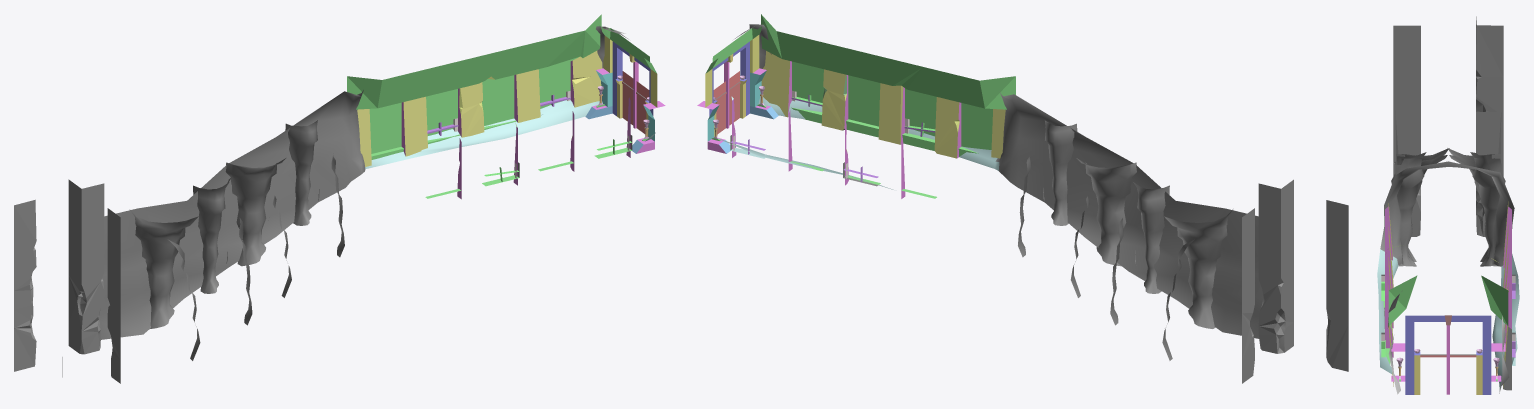
File: ssq_ent2.gltf
The picture shows the model from 3 angles, left to right: view 1: azimuth 30°, elevation 25°; view 2: azimuth 150°, elevation 25°; view 3: azimuth 270°, elevation 25°; orthographic projection. The views are drawn at different scales.
Visible parts, largest first — view 1: ssq_ent2; view 2: ssq_ent2; view 3: ssq_ent2.
Boxes of the visible parts, x1,y1,x2,y2 form: ssq_ent2: [14, 14, 665, 383]; ssq_ent2: [697, 14, 1348, 383]; ssq_ent2: [1377, 16, 1519, 394].
Bounding box in the file's own units: 34.84 × 11.1 × 6.61.
